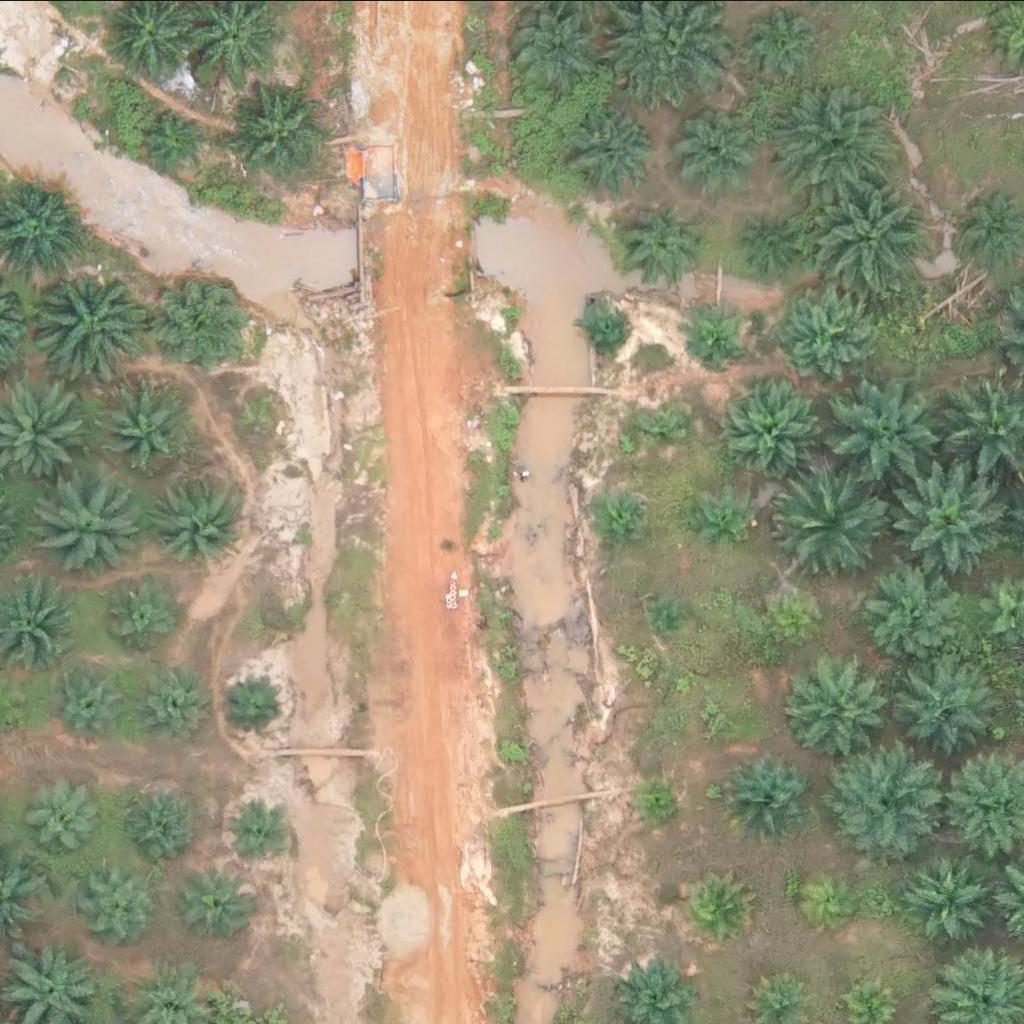Kelapa_Sawit: (785, 82, 899, 195), (808, 177, 921, 290), (832, 378, 945, 491), (772, 469, 885, 582), (904, 464, 1017, 577), (827, 749, 941, 861), (32, 264, 145, 376), (500, 1, 601, 101), (795, 654, 896, 754), (231, 81, 332, 181), (159, 273, 260, 373), (724, 375, 824, 475), (865, 560, 965, 660), (902, 653, 1002, 753), (38, 474, 138, 574), (724, 753, 812, 841), (905, 855, 993, 943), (129, 664, 217, 752), (571, 108, 660, 195), (741, 1, 829, 88), (670, 108, 758, 195), (774, 292, 862, 379), (618, 198, 706, 285), (104, 380, 192, 467), (153, 478, 241, 565), (48, 655, 136, 742), (31, 784, 107, 859), (119, 782, 195, 857), (101, 576, 176, 651), (86, 864, 161, 939), (186, 866, 261, 941), (143, 100, 218, 175), (685, 875, 748, 938), (227, 805, 290, 868), (223, 673, 286, 735), (804, 878, 855, 928), (687, 313, 738, 363), (577, 306, 627, 356), (746, 215, 796, 265), (640, 403, 690, 453), (594, 495, 644, 545), (697, 500, 747, 550), (655, 598, 693, 636), (639, 785, 677, 822), (774, 609, 811, 646), (702, 708, 728, 733)
